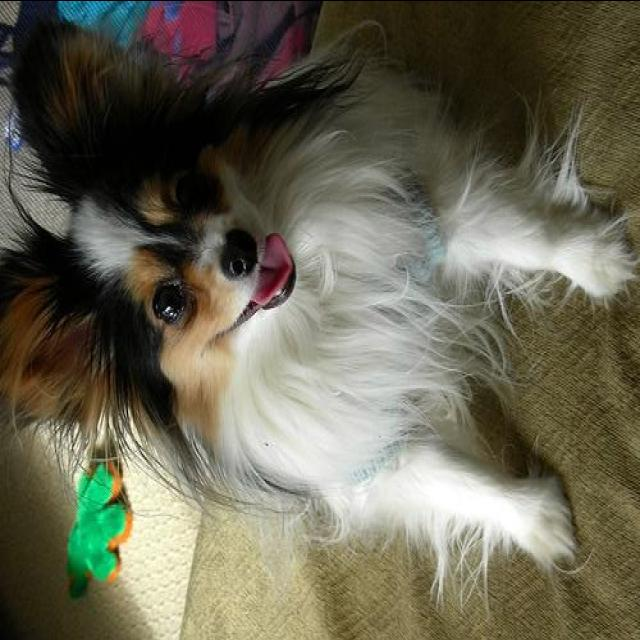papillon: (2, 3, 628, 563)
